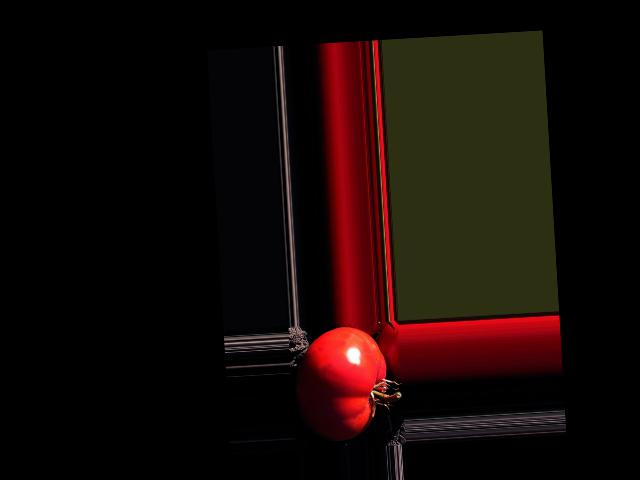tomato: (291, 324, 389, 443)
